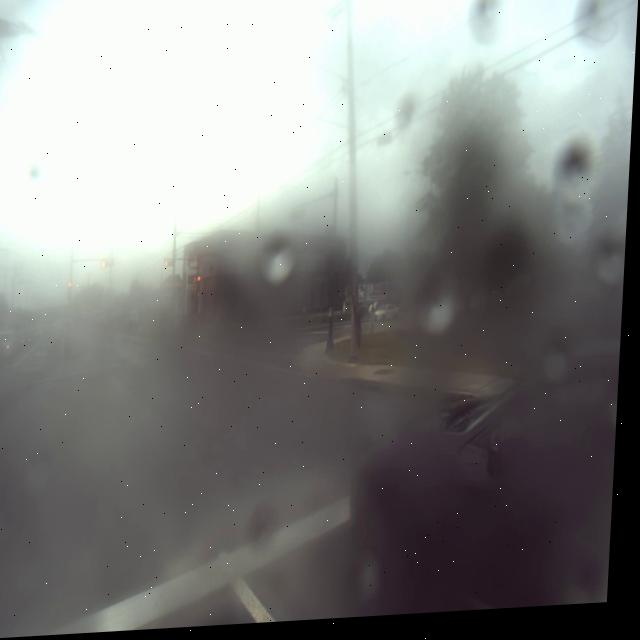car: (345, 310, 626, 616)
